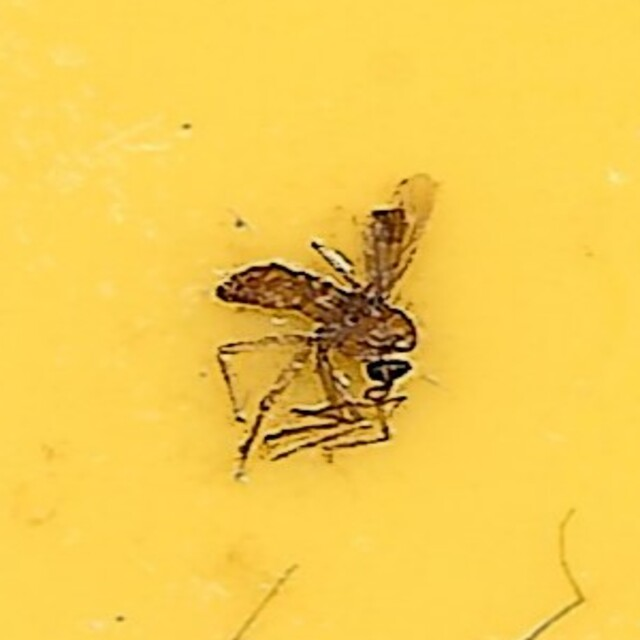Nematocera: (213, 175, 427, 465)
